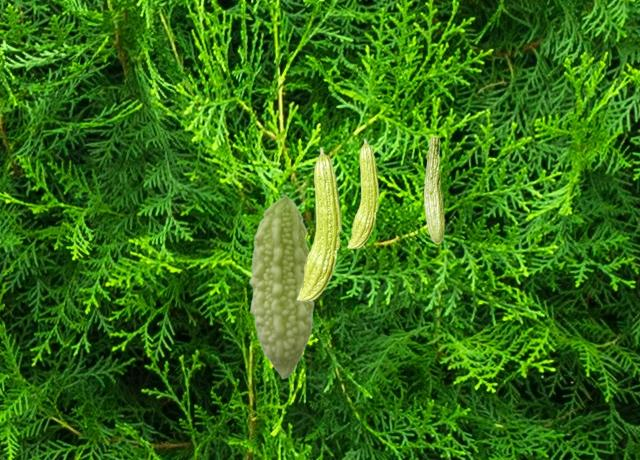ampalaya: (248, 194, 315, 379), (296, 146, 342, 302), (346, 138, 379, 249), (423, 135, 445, 244)
